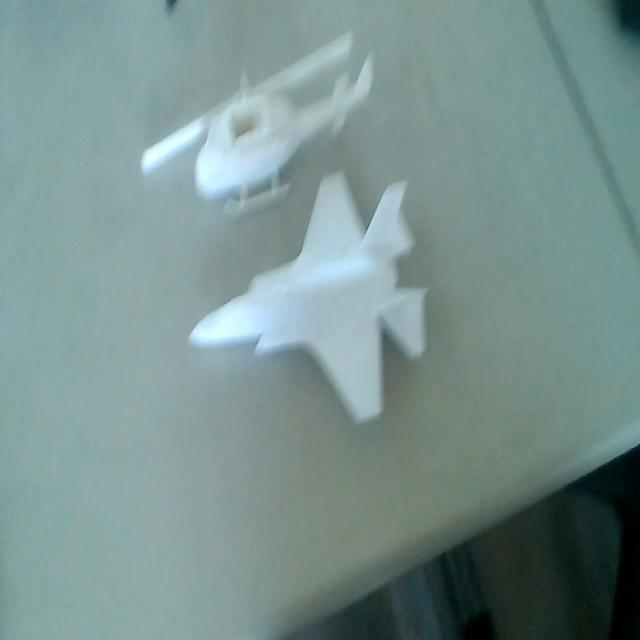Helicopter: (138, 32, 380, 215)
Jet: (188, 164, 432, 433)
